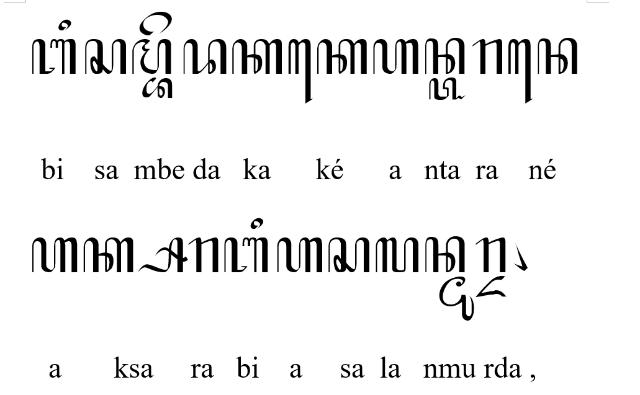_b: (142, 77, 172, 99)
_d: (476, 276, 506, 298)
_mu: (439, 276, 475, 320)
_s: (136, 237, 188, 273)
_t: (428, 77, 466, 101)
b: (222, 236, 270, 274), (32, 38, 76, 76)
d: (182, 38, 228, 76)
e: (139, 10, 173, 36)
e1: (287, 37, 313, 103), (507, 38, 533, 104)
h: (372, 39, 420, 75), (32, 238, 78, 274), (277, 237, 323, 273)
i: (250, 216, 264, 230), (58, 20, 72, 32)
k: (231, 38, 283, 76), (316, 38, 368, 76), (83, 238, 135, 274)
kom: (512, 242, 528, 272)
l: (375, 236, 419, 274)
m: (132, 39, 172, 75)
n: (424, 236, 466, 274), (426, 37, 466, 75), (536, 38, 578, 74)
r: (188, 236, 220, 274), (472, 38, 502, 74), (476, 237, 506, 273)
s: (85, 39, 127, 75), (328, 238, 370, 274)
